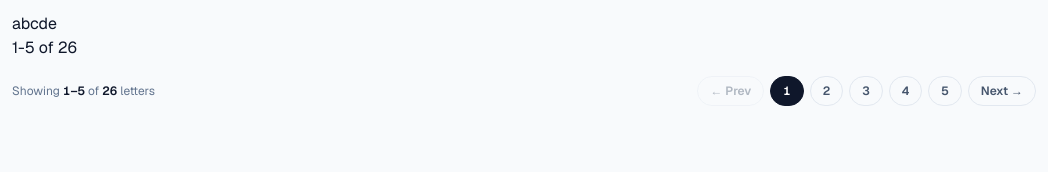
Scenario: usePaged and Pager › disables the ends so paging can never walk out of range
Expected: the button "← Prev" is disabled, [697,76,764,106]
# Page six is outside the initial window, so it is reached by walking to the end.
What coordinates should you click on to do the following:
click the button named "Page 5"
I would click on:
 (945, 91)
Its box is [928,76,962,106].
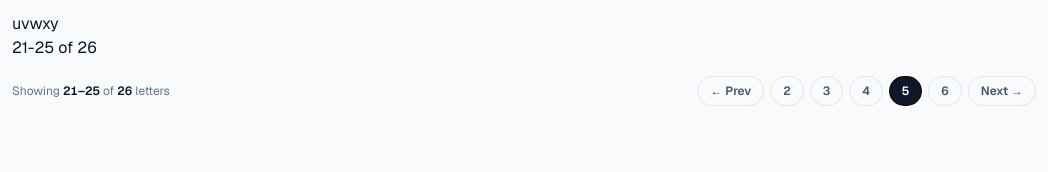
What coordinates should you click on to do the following:
click the button "Next →"
I would click on:
 (1002, 91)
Its box is [968,76,1036,106].
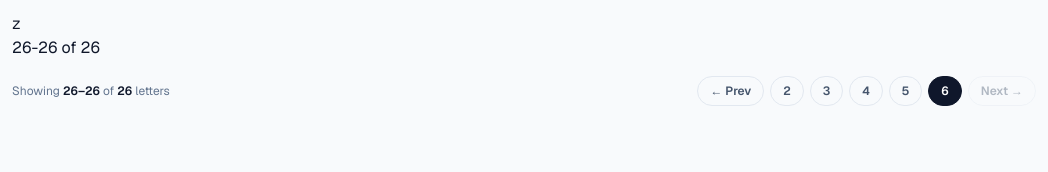
Expected: the text with test id "slice" reads "z", [12,13,21,34]
Expected: the text with test id "range" reads "26-26 of 26", [12,37,100,58]
Expected: the button "Next →" is disabled, [968,76,1036,106]
